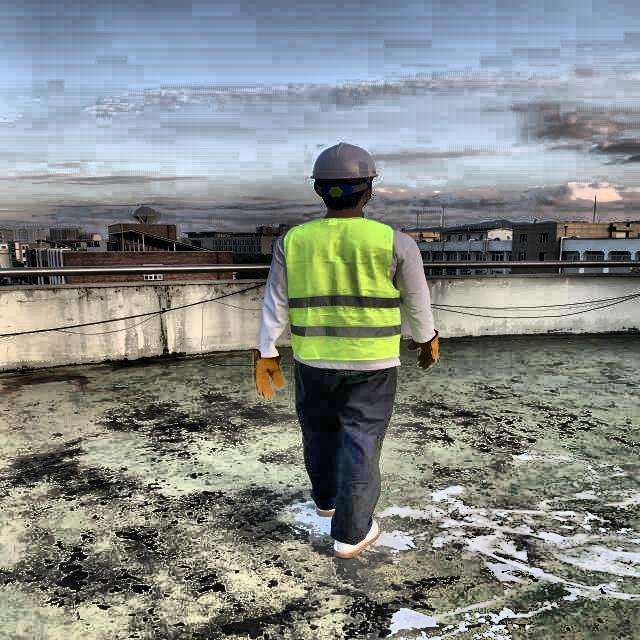safety_jacket: (283, 218, 402, 360)
